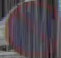No Stopping: (6, 4, 54, 53)
